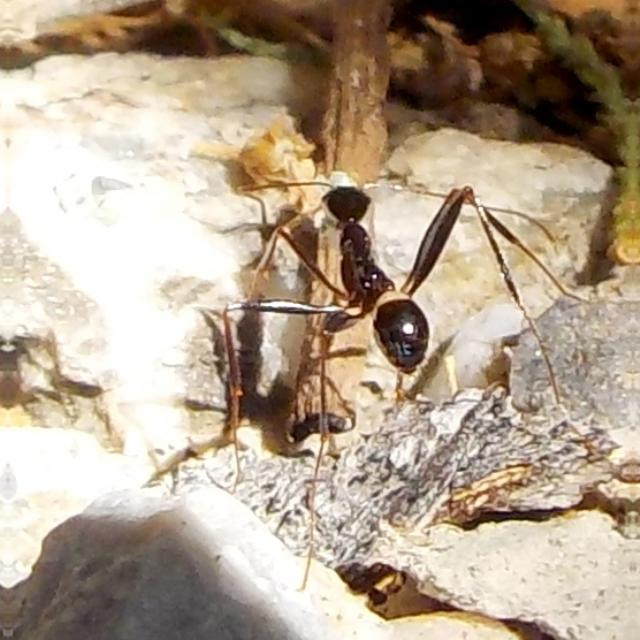Apheanogaster: (278, 153, 452, 391)
